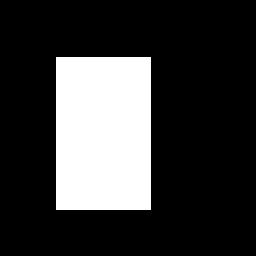person: (56, 57, 150, 209)
